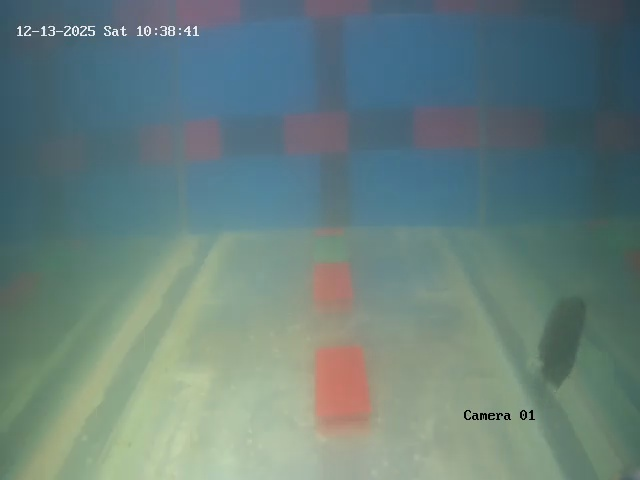fish: (532, 298, 586, 386)
